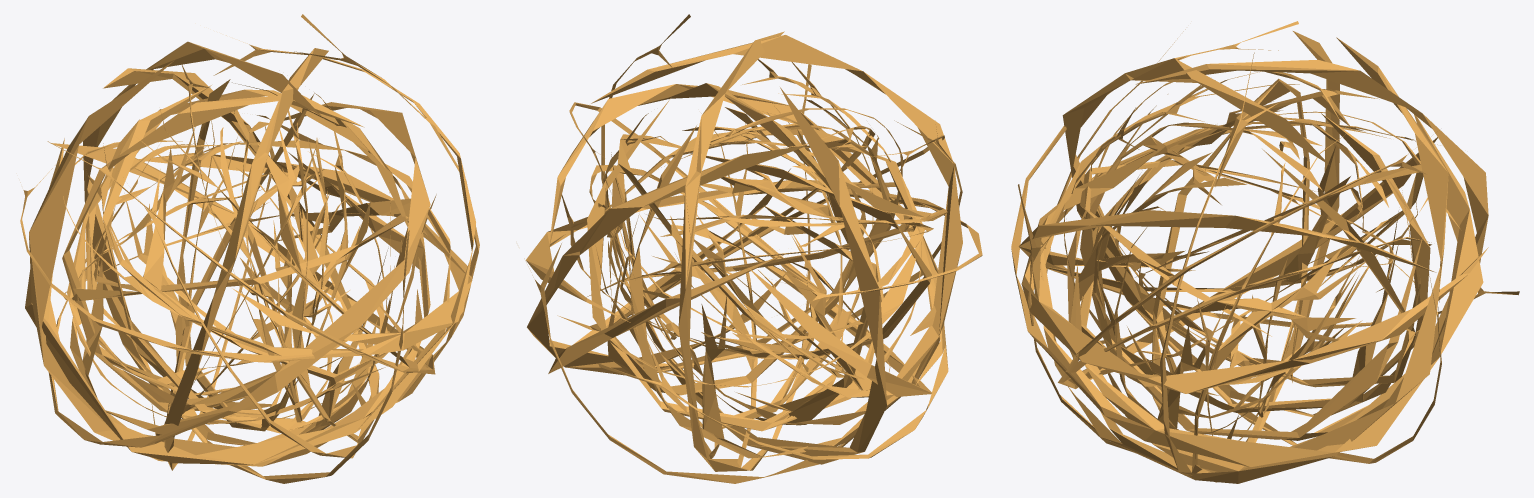
The model's file is Tumbleweed.fbx.
3 views of the same model, side by side, from view 1: azimuth 30°, elevation 25°; view 2: azimuth 150°, elevation 25°; view 3: azimuth 270°, elevation 25° (orthographic). The views are drawn at different scales.
Parts seen in each view (by area): view 1: Plane.007; view 2: Plane.007; view 3: Plane.007.
Part boxes in pixels (bbox=[...]): Plane.007: bbox=[20, 14, 479, 483]; Plane.007: bbox=[524, 14, 982, 483]; Plane.007: bbox=[1011, 21, 1519, 483].
Bounding box in the file's own units: 538 × 564 × 576.
